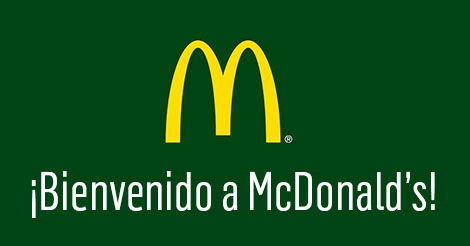mcdonalds: (164, 37, 280, 142)
